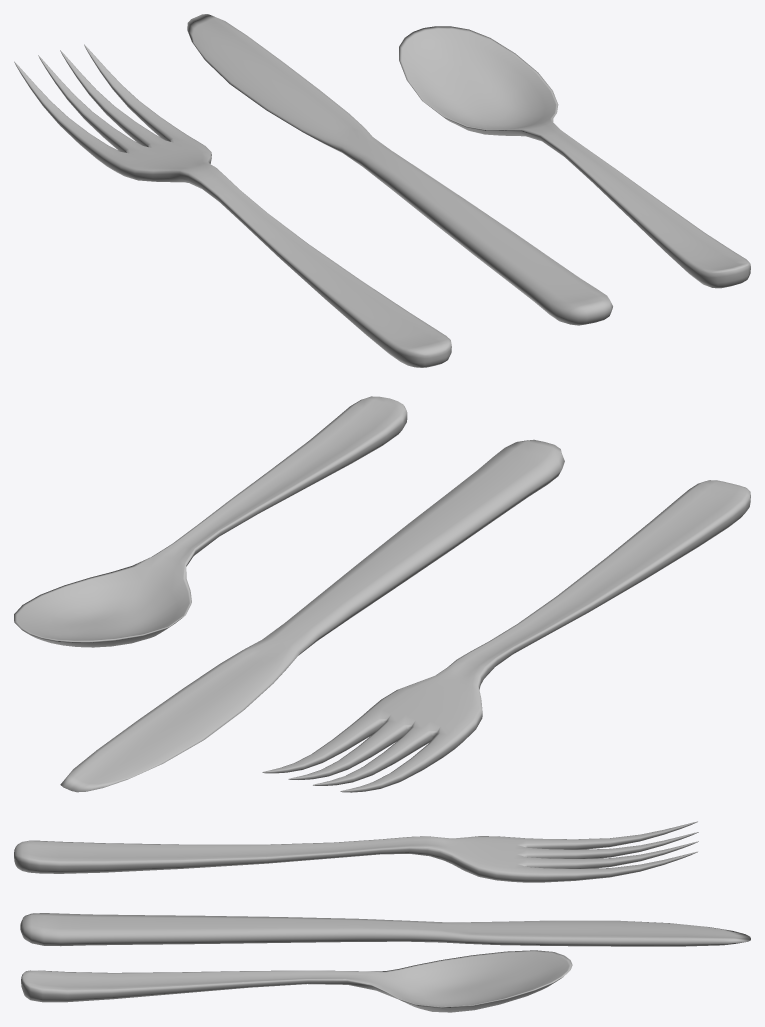
File: cutlery.glb
The picture shows the model from 3 angles, top to bottom: view 1: azimuth 30°, elevation 25°; view 2: azimuth 150°, elevation 25°; view 3: azimuth 270°, elevation 25°; orthographic projection. The views are drawn at different scales.
Parts seen in each view (by area): view 1: knife.001, spoon.001, fork; view 2: knife.001, fork, spoon.001; view 3: fork, knife.001, spoon.001.
Boxes of the visible parts, x1,y1,x2,y2 form: knife.001: (187,14,612,325); spoon.001: (399,26,750,288); fork: (14,44,451,367); knife.001: (60,439,564,792); fork: (262,480,750,792); spoon.001: (14,396,407,647); fork: (14,821,698,882); knife.001: (20,913,750,946); spoon.001: (21,950,572,1012).
Bounding box in the file's own units: 9.83 × 0.9139 × 17.55.
1 material, 1 textured.
